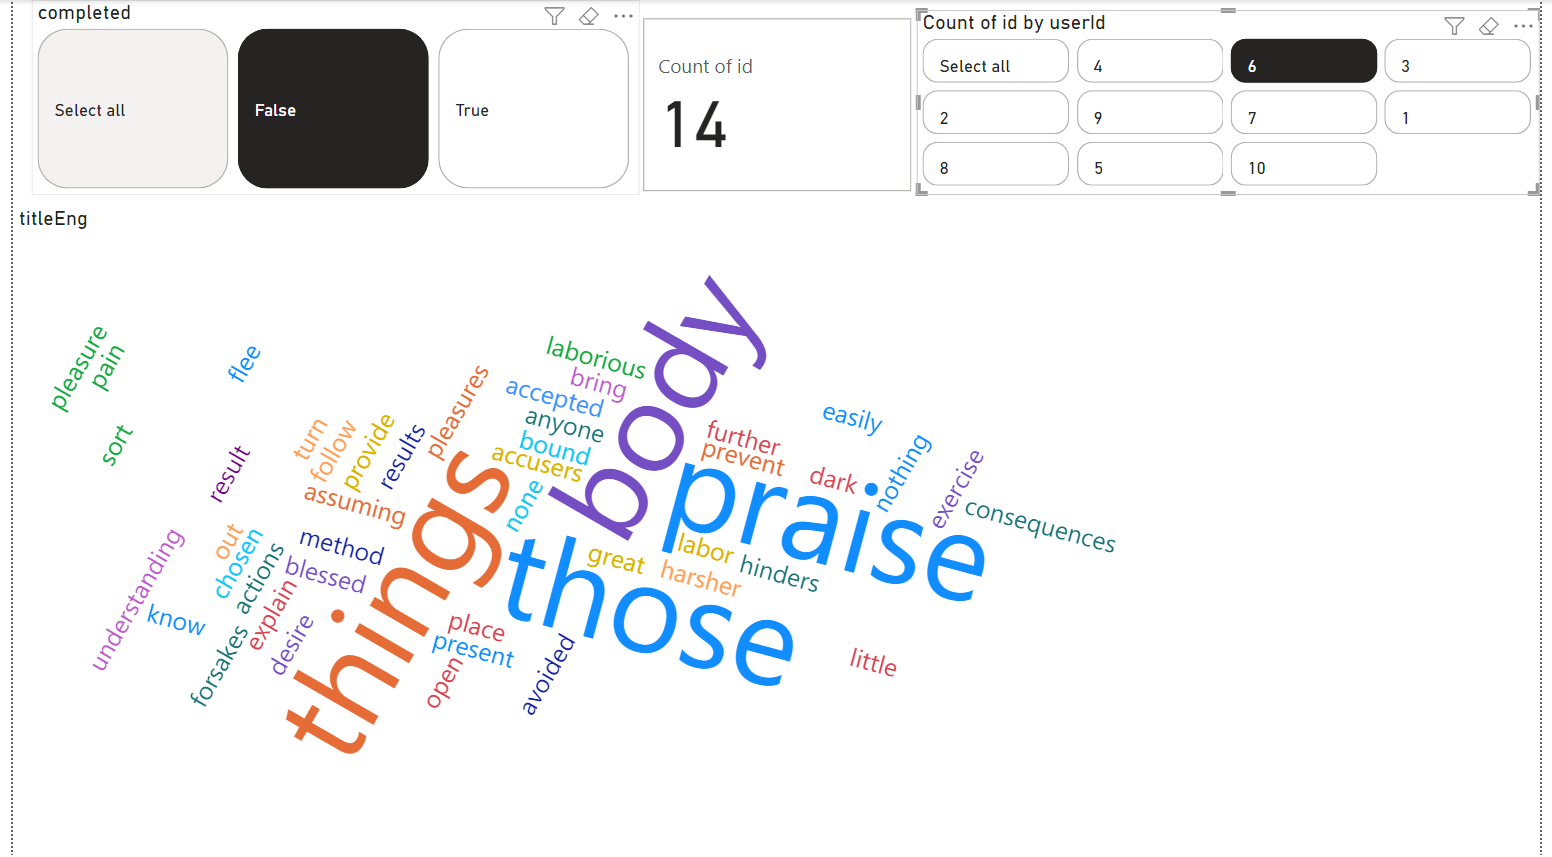

What the dashboard file says about the page in this screenshot:
{"tool":"powerbi","page":{"name":"Page 1","canvas":[1280,720],"ordinal":0},"visuals":[{"type":"WordCloud1447959067750","fields":{"Category":["typicode.titleEng"]},"box":[0,172.5,1279.7,547.8],"z":0},{"type":"cardVisual","fields":{"Data":["CountNonNull(typicode.id)"]},"box":[524.6,10.1,233.3,155.1],"z":1000},{"type":"advancedSlicerVisual","fields":{"Values":["typicode.completed"]},"box":[15.9,0,508.7,163.8],"z":2000},{"type":"advancedSlicerVisual","fields":{"Values":["typicode.userId"]},"box":[758,8.7,521.7,155.1],"z":3000}]}

Visuals, with their boxes in screenshot pixels (x1, y1, x2, y2), scaled from the page's 1280x720 canvas onto the 1552x857 screenshot:
WordCloud1447959067750 - typicode.titleEng: (0,205,1551,856)
cardVisual - CountNonNull(typicode.id): (636,12,919,197)
advancedSlicerVisual - typicode.completed: (19,0,636,195)
advancedSlicerVisual - typicode.userId: (919,10,1551,195)
